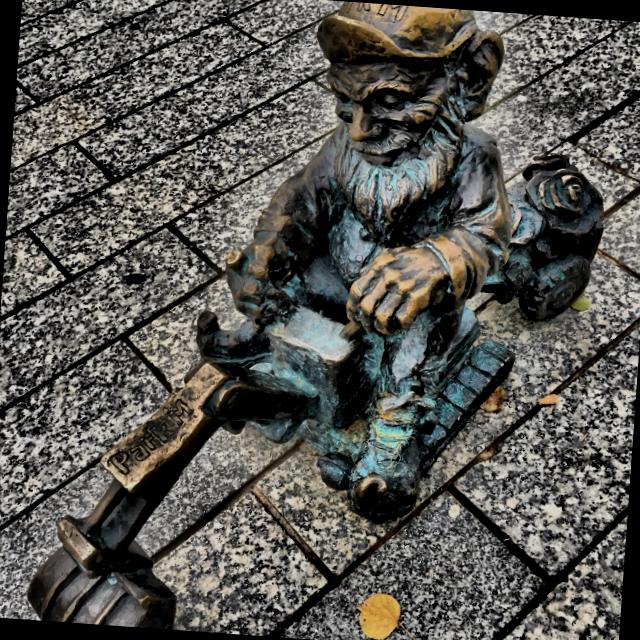Koparkus: (28, 1, 602, 627)
